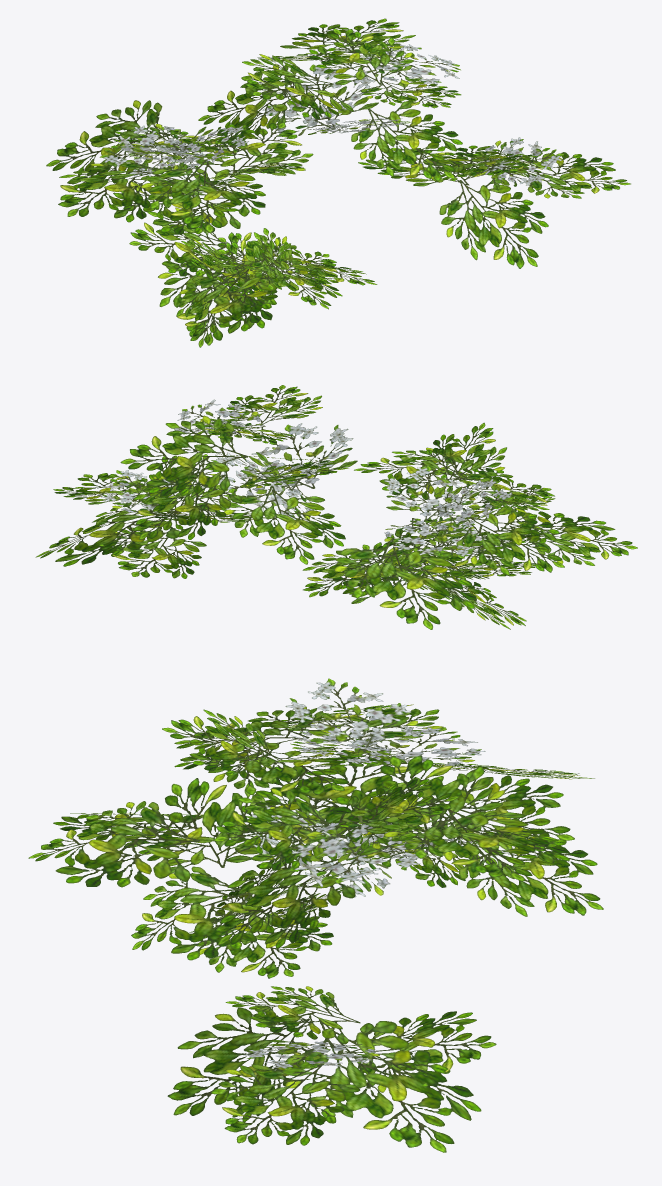
Rendered from S_Tree_Green010.FBX.
The picture shows the model from 3 angles, top to bottom: view 1: azimuth 30°, elevation 25°; view 2: azimuth 150°, elevation 25°; view 3: azimuth 270°, elevation 25°; orthographic projection. The views are drawn at different scales.
Visible parts, largest first — view 1: S_Tree_Green010; view 2: S_Tree_Green010; view 3: S_Tree_Green010.
Part boxes in pixels (x1,y1,x2,y2): S_Tree_Green010: (46,18,630,347); S_Tree_Green010: (35,385,637,629); S_Tree_Green010: (28,678,603,1152).
Size of the model in its own units: 573 by 407 by 194.
